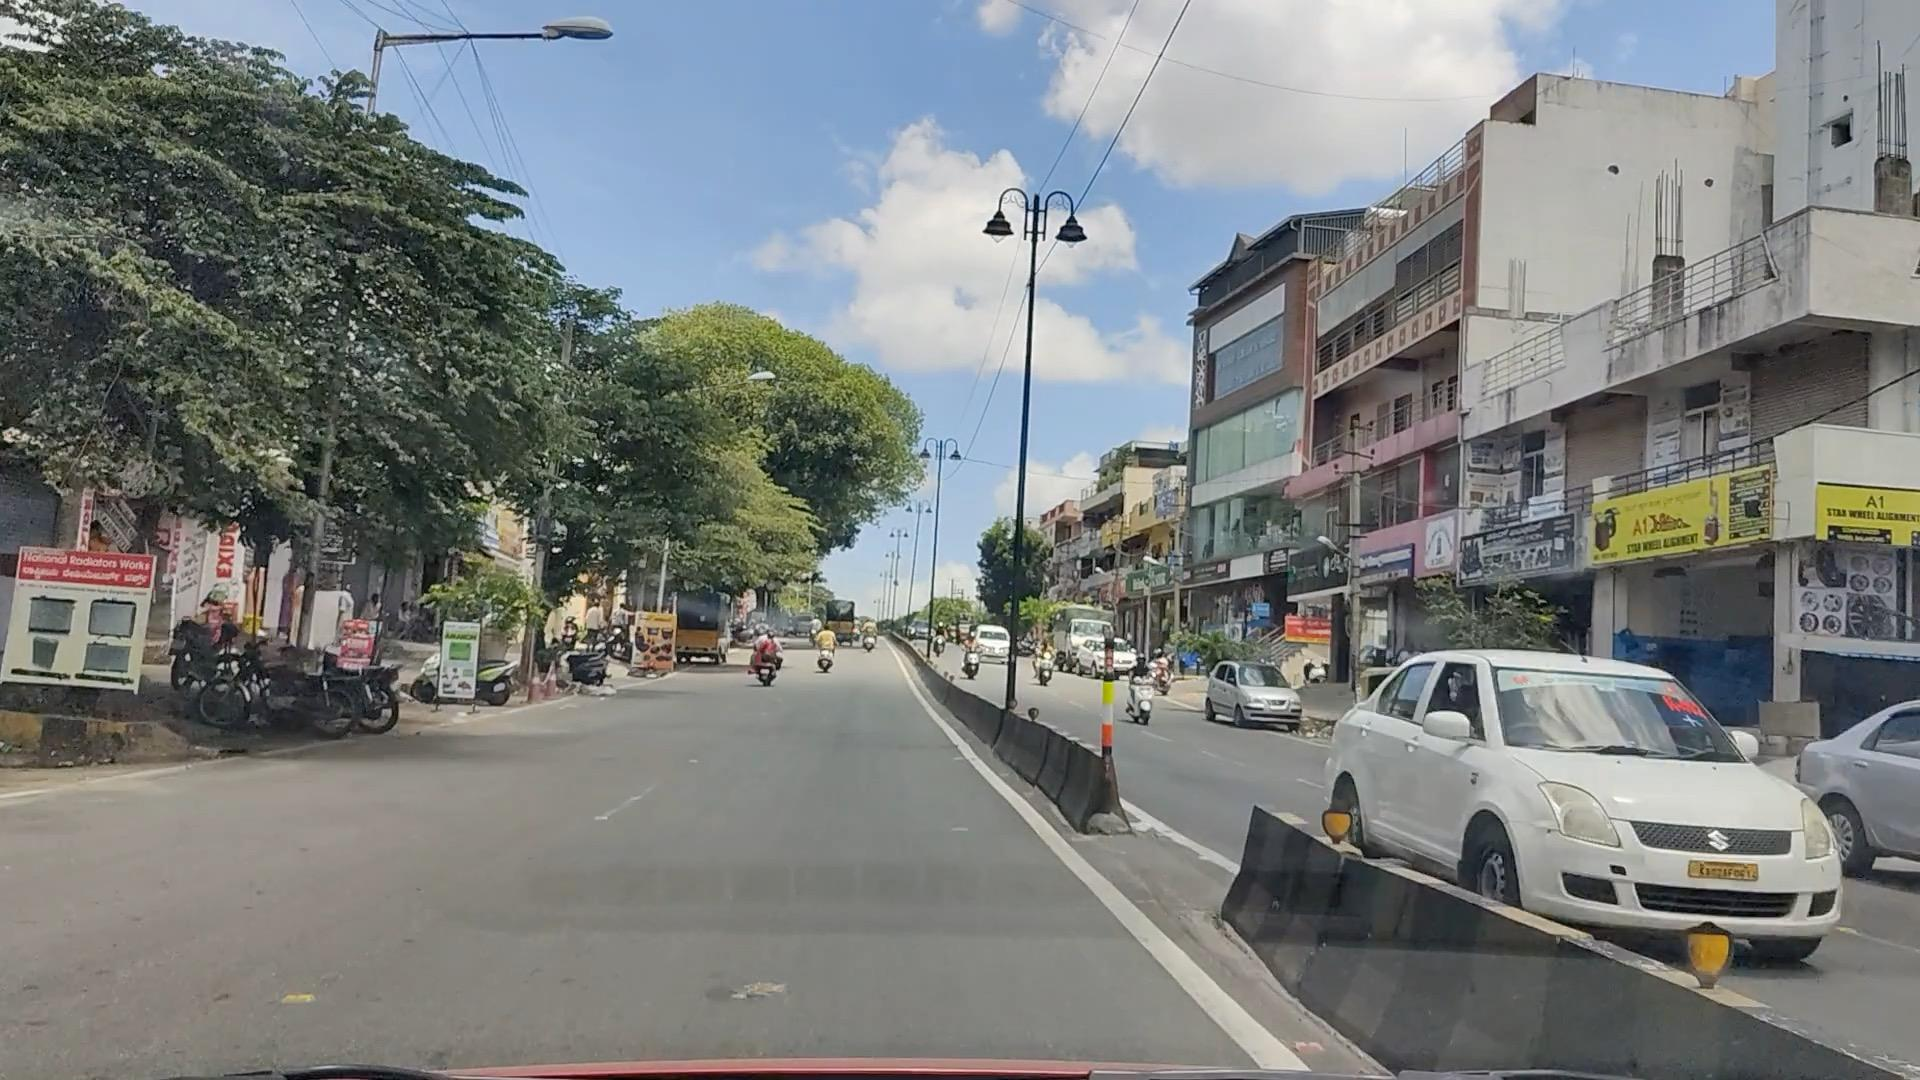LMV: (1327, 674, 1755, 939)
